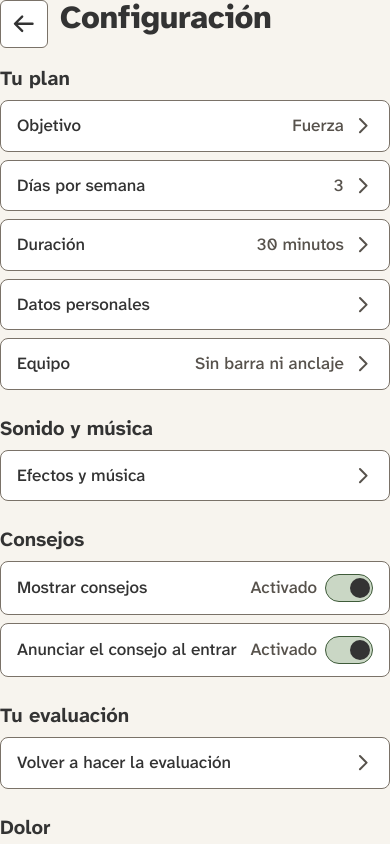
Test: Indice de configuracion › tocar la fila de días abre la ventana con las opciones
What coordinates should you click on to do the following:
click the button with class "fila-configuracion" showing "Días por semana 3"
I would click on:
 (81, 184)
Its box is [0,160,389,211].
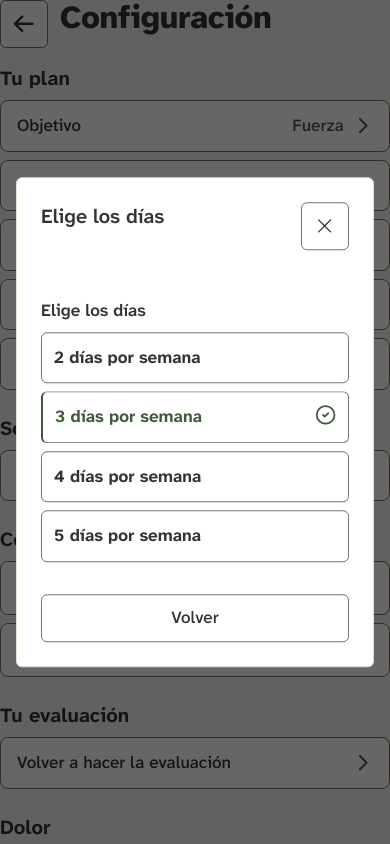
Result: the dialog is shown at [16,177,374,667]
